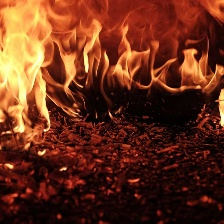fire: (1, 1, 224, 162)
